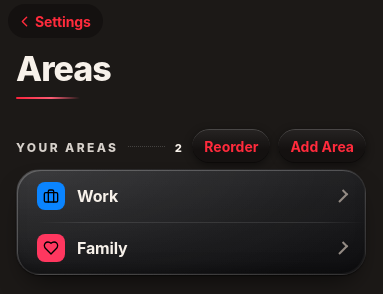
Test: Areas: reorder is a mode, and a row never carries a chevron and a grip together › no grip at rest; the head's Reorder turns them on, takes the chevrons away, and Done restores
Expected: the number of elements with class "chev" is 2, [335, 190, 348, 203]; [335, 242, 348, 255]
Click the button "Reorder": (231,146) [192, 129, 270, 163]
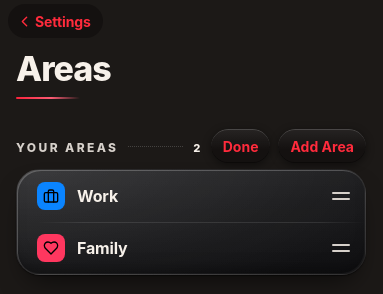
Now the number of buttons with class "drag-handle" is 2, box [329, 184, 353, 208]; [329, 236, 353, 260]
Now no elements with class "chev" are shown
Click the button "Done": (241,146) [211, 129, 270, 163]
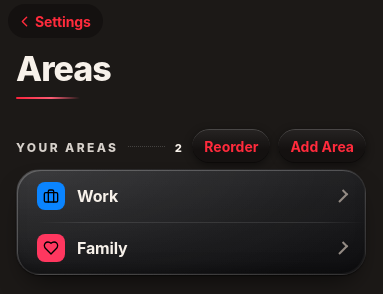
Now no buttons with class "drag-handle" are shown
Now the number of elements with class "chev" is 2, box [335, 190, 348, 203]; [335, 242, 348, 255]
